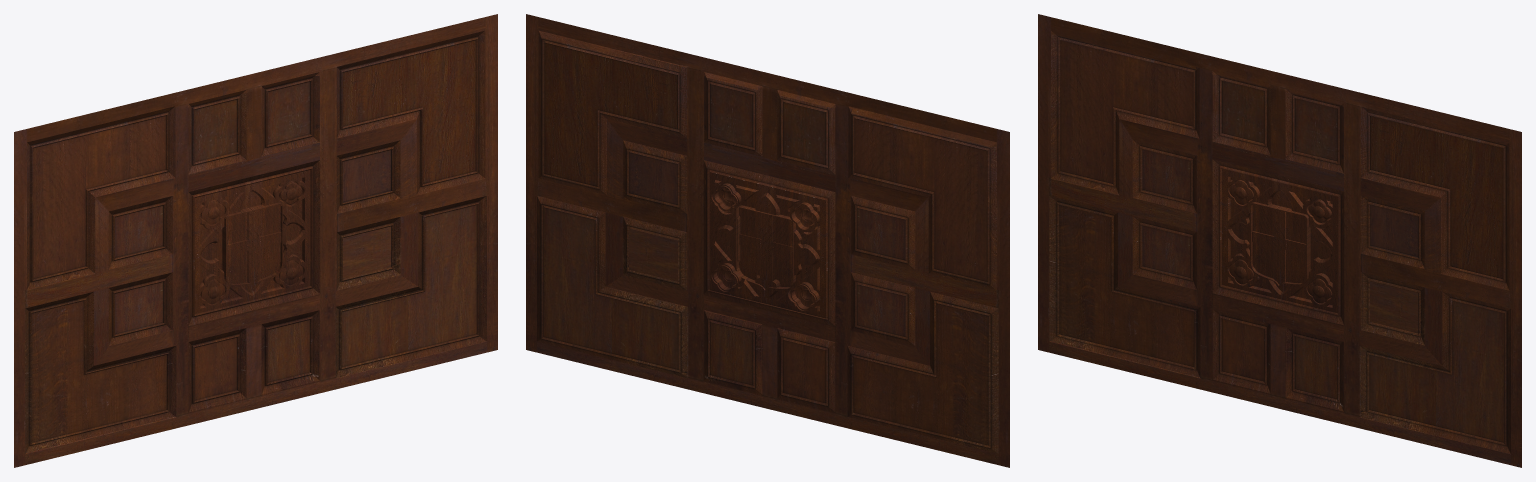
File: Template.006.obj
3 renders of one model, left to right at view 1: azimuth 30°, elevation 25°; view 2: azimuth 150°, elevation 25°; view 3: azimuth 330°, elevation 25°, orthographic.
Parts seen in each view (by area): view 1: Template.006_Template.007; view 2: Template.006_Template.007; view 3: Template.006_Template.007.
Part boxes in pixels (left/top/right/bottom): Template.006_Template.007: left=14, top=14, right=497, bottom=467; Template.006_Template.007: left=526, top=14, right=1009, bottom=467; Template.006_Template.007: left=1038, top=14, right=1521, bottom=467.
Bounding box in the file's own units: 1.6 × 1.06 × 0.0342.
